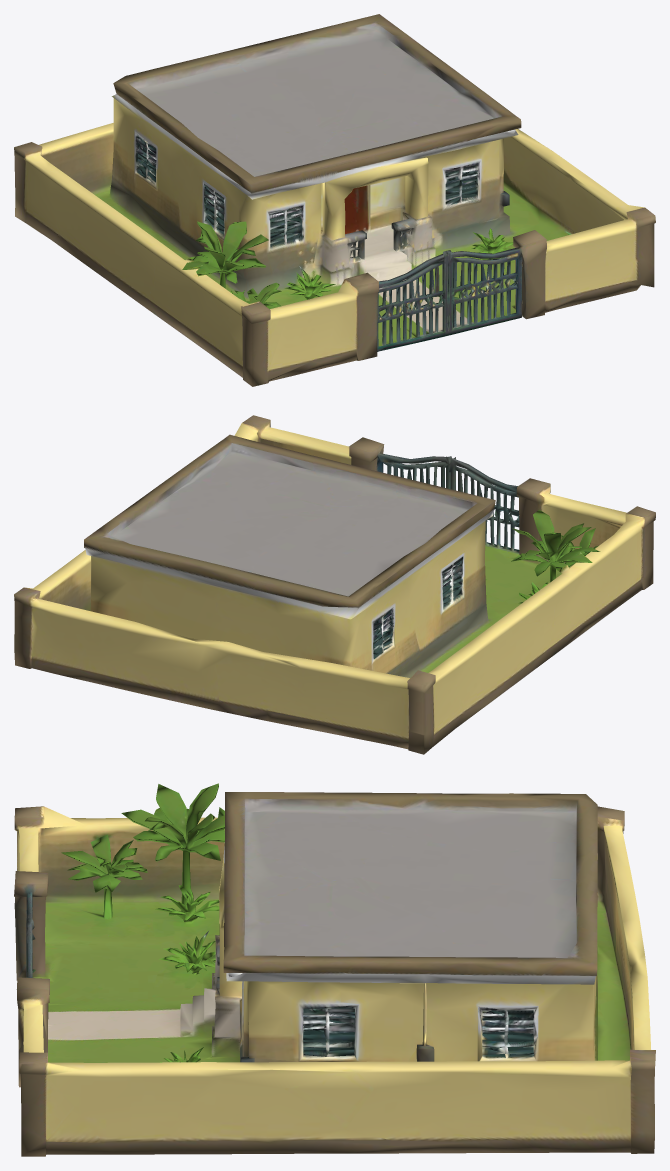
The model's file is residential house.fbx.
3 renders of one model, top to bottom at view 1: azimuth 30°, elevation 25°; view 2: azimuth 150°, elevation 25°; view 3: azimuth 270°, elevation 25°, orthographic. The views are drawn at different scales.
Visible parts, largest first — view 1: tripo_node_cf02b817; view 2: tripo_node_cf02b817; view 3: tripo_node_cf02b817.
Part boxes in pixels (x1,y1,x2,y2): tripo_node_cf02b817: (14,14,655,386); tripo_node_cf02b817: (14,415,655,754); tripo_node_cf02b817: (14,783,655,1156).
Bounding box in the file's own units: 0.9509 × 0.2773 × 1.
